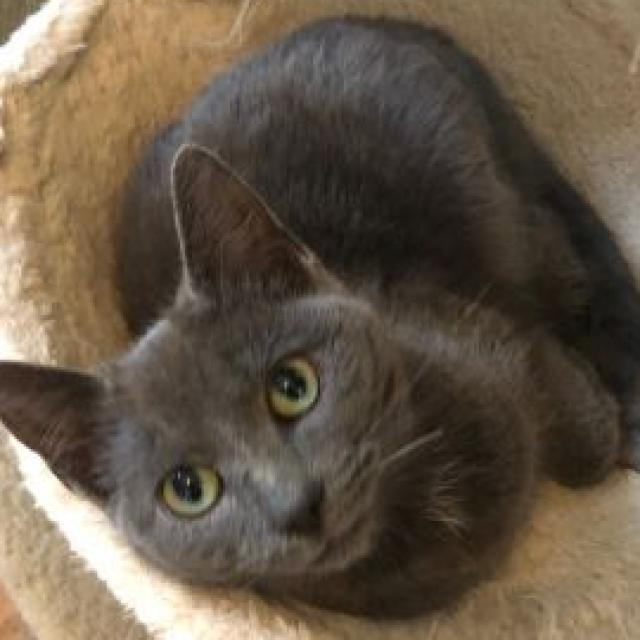Russian Blue: (0, 5, 640, 625)
